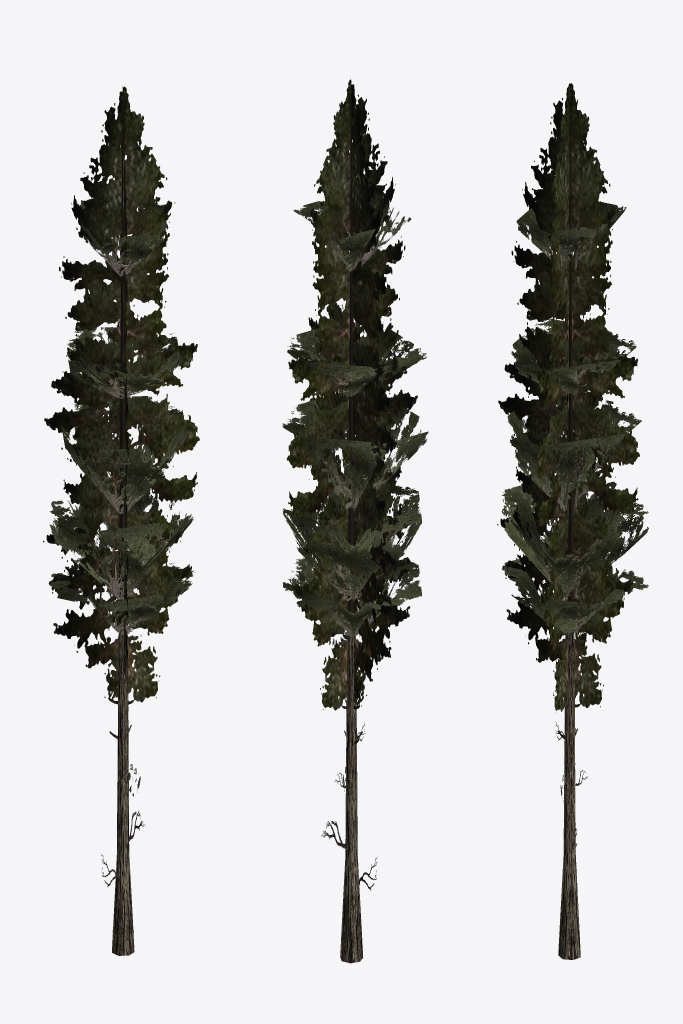
File: tree-night.glb
The picture shows the model from 3 angles, left to right: view 1: azimuth 30°, elevation 25°; view 2: azimuth 150°, elevation 25°; view 3: azimuth 270°, elevation 25°; orthographic projection.
Parts seen in each view (by area): view 1: Cylinder.001; view 2: Cylinder.001; view 3: Cylinder.001.
Part boxes in pixels (x1=…): Cylinder.001: x1=43, y1=86, x2=199, y2=955; Cylinder.001: x1=282, y1=79, x2=428, y2=963; Cylinder.001: x1=497, y1=83, x2=648, y2=959.
Size of the model in its own units: 0.5125 by 2.61 by 0.5125.
2 materials, 2 textured.
